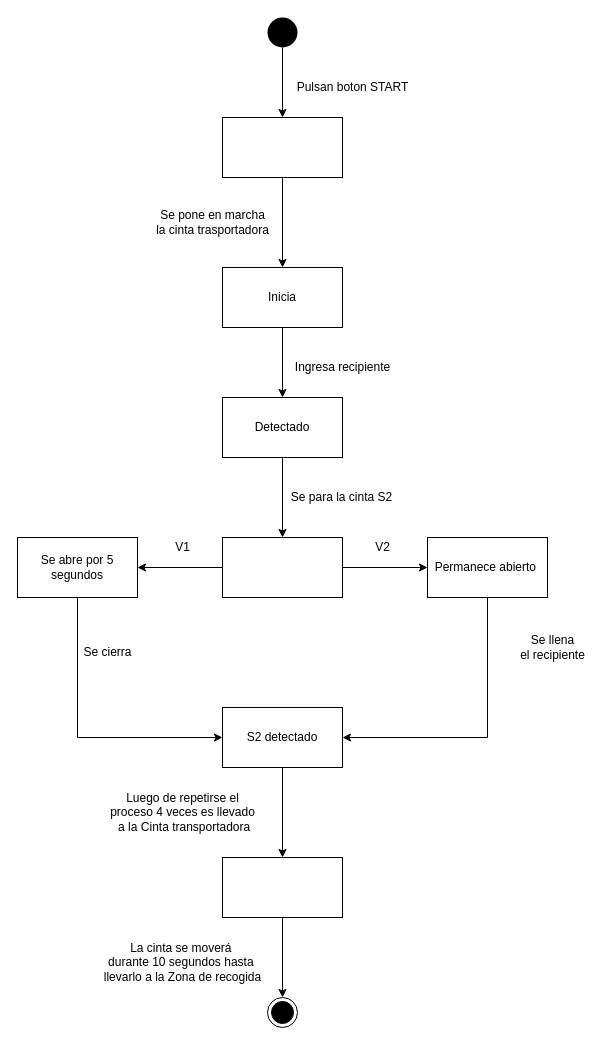
The diagram is 610 pixels wide and 1045 high, and some of its shapes have lost their labels. The shapes that lost their labels are listed below. From the top down, each one's centre as x and y in pixels, then its label:
At point (282, 147): "Pendiente".
At point (282, 567): "Abren las válvulas V1 y V2".
At point (282, 887): "Cinta transportadora".
